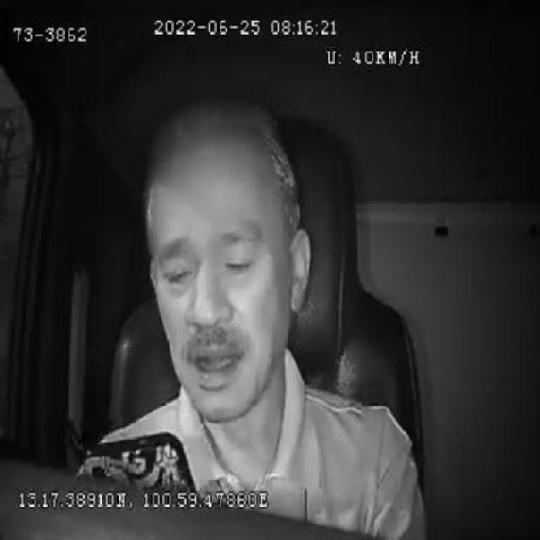phone: (80, 429, 200, 492)
